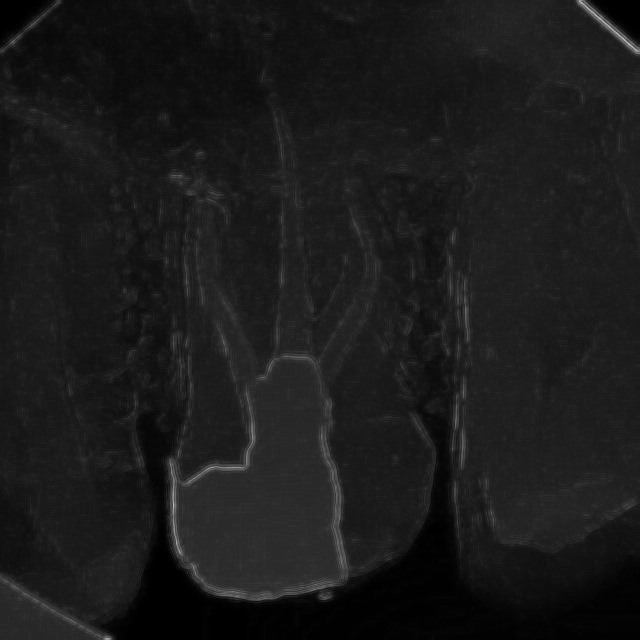Class 0- No endodontic treatment: (84, 37, 485, 618)
